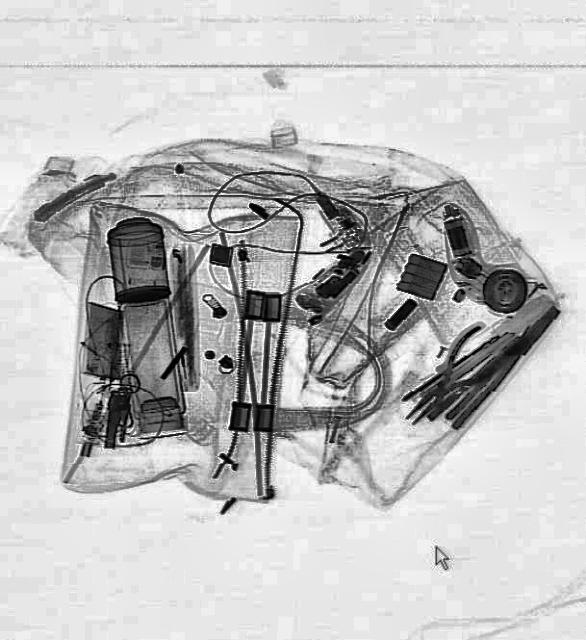Pliers: (390, 320, 510, 438)
